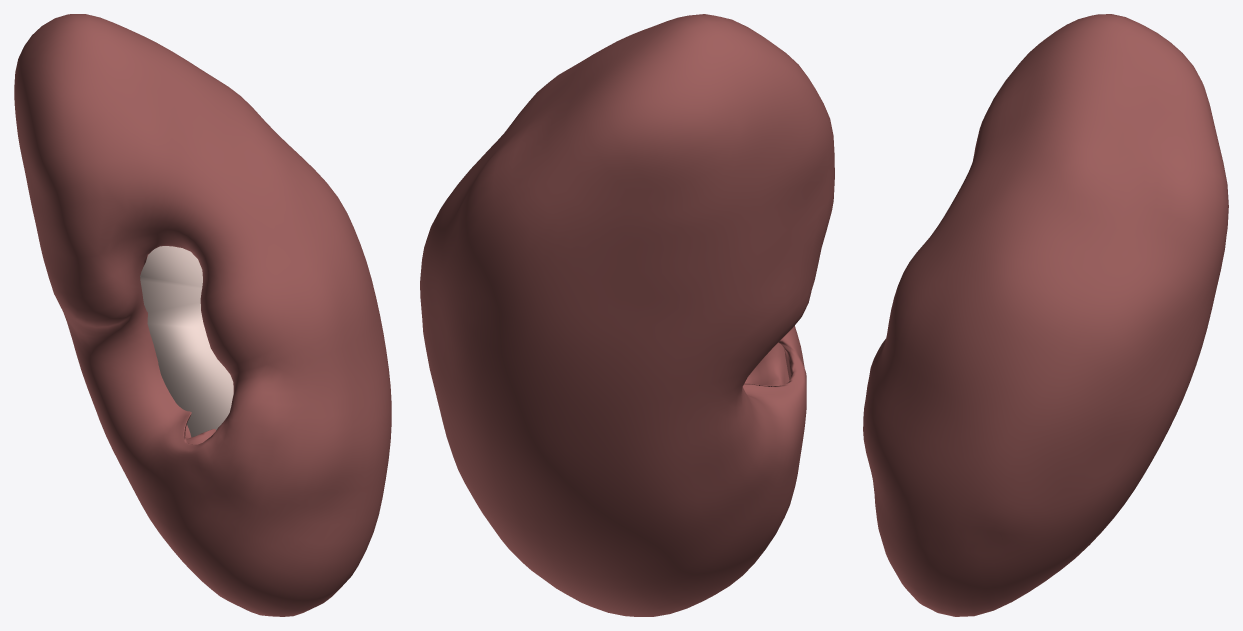
3 views of the same model, side by side, from view 1: azimuth 30°, elevation 25°; view 2: azimuth 150°, elevation 25°; view 3: azimuth 270°, elevation 25° (orthographic). The views are drawn at different scales.
Parts seen in each view (by area): view 1: VH_F_kidney_capsule_L, VH_F_renal_column_L; view 2: VH_F_kidney_capsule_L, VH_F_hilum_of_kidney_L; view 3: VH_F_kidney_capsule_L.
Part boxes in pixels (<box>): VH_F_kidney_capsule_L: <box>14,14,391,616</box>; VH_F_renal_column_L: <box>140,246,233,437</box>; VH_F_kidney_capsule_L: <box>420,14,834,616</box>; VH_F_hilum_of_kidney_L: <box>744,342,789,385</box>; VH_F_kidney_capsule_L: <box>863,14,1228,616</box>.
Bounding box in the file's own units: 0.0731 × 0.1249 × 0.0776.
